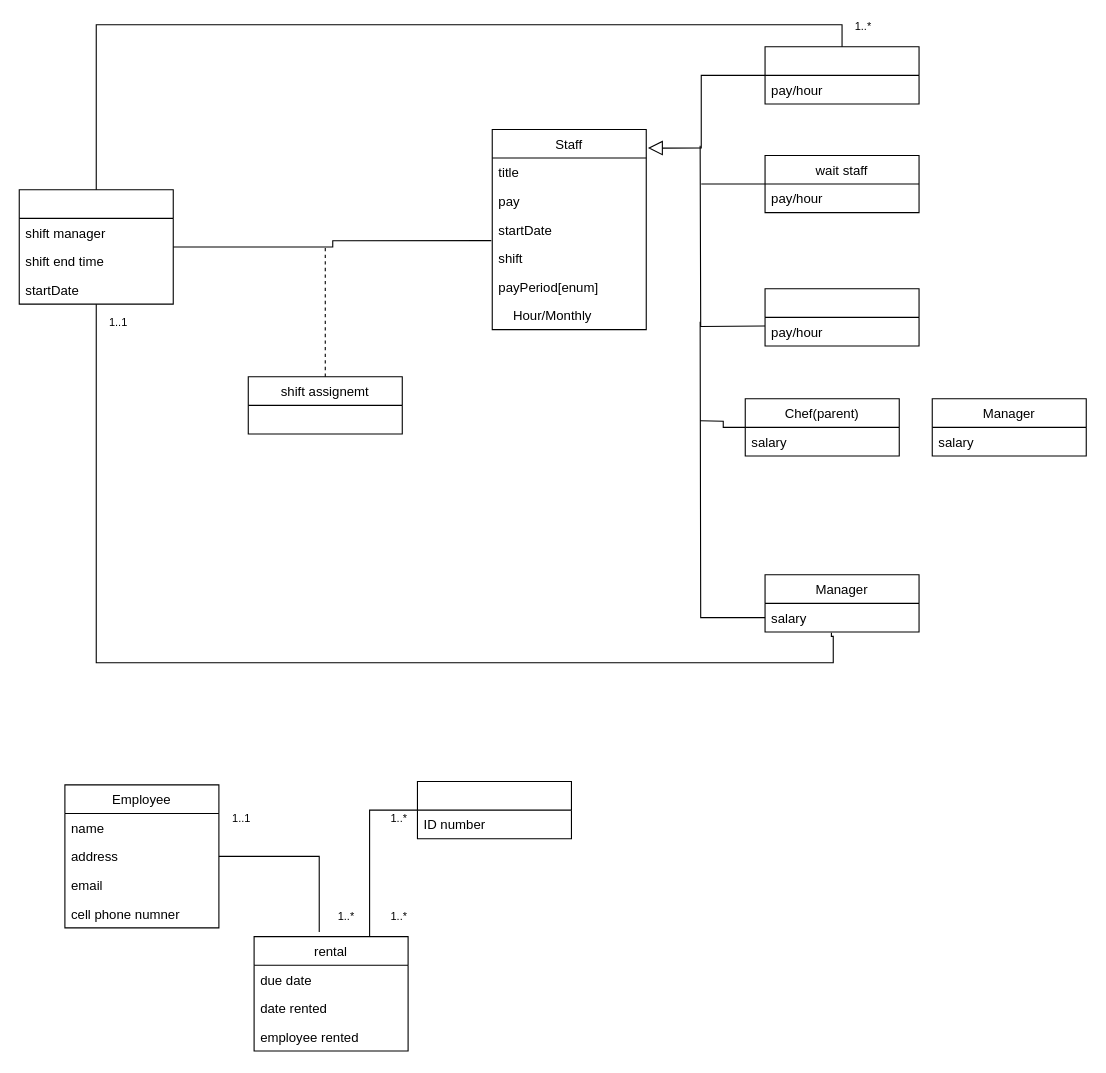
This 1106x1073 diagram has some shape labels left out. Each missing label, with the box of its shape:
Dishwasher: (764, 288, 919, 346)
DVD: (416, 780, 571, 839)
Maitre d': (764, 46, 919, 104)
shifts: (18, 189, 173, 304)
